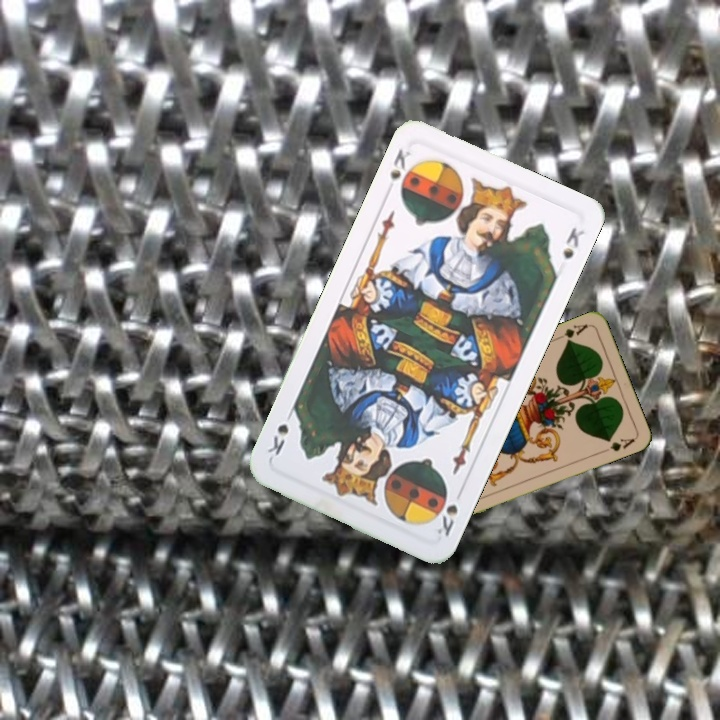GA: (553, 320, 592, 345)
SK: (381, 144, 418, 199), (432, 500, 461, 539)
